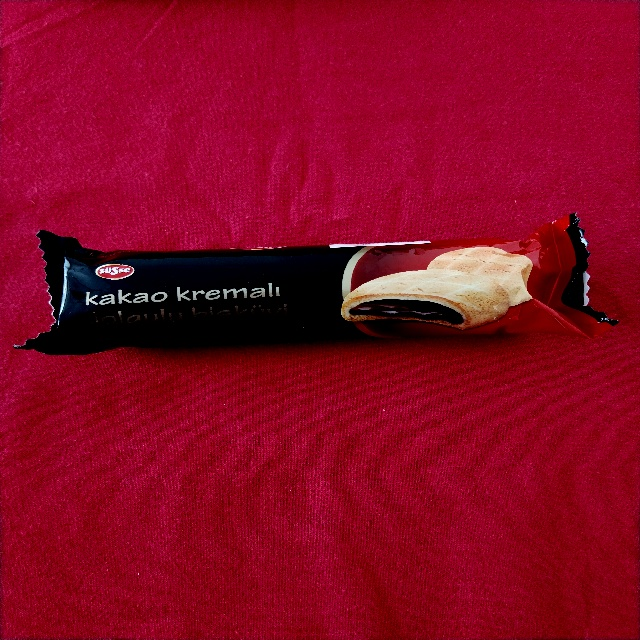susse_biskuvi: (21, 225, 612, 356)
